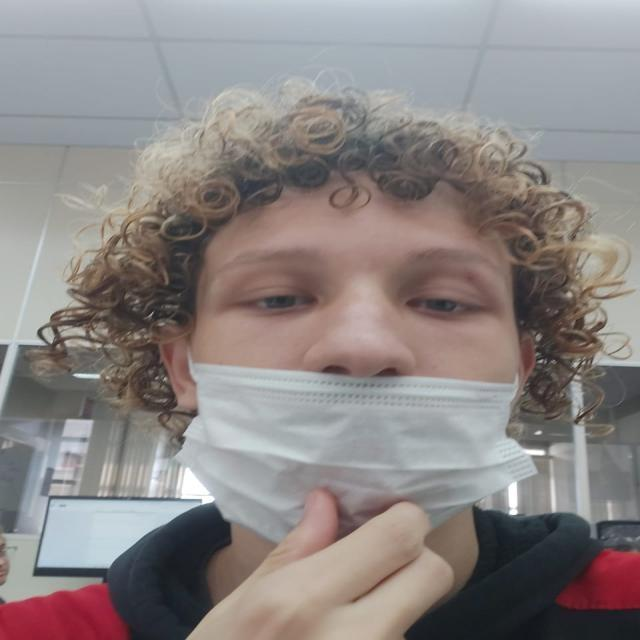hairnet: (205, 184, 516, 499)
